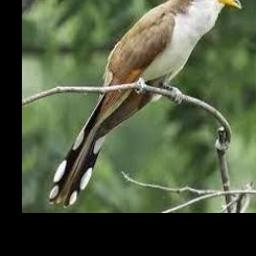Cuckoo: (48, 0, 240, 208)
